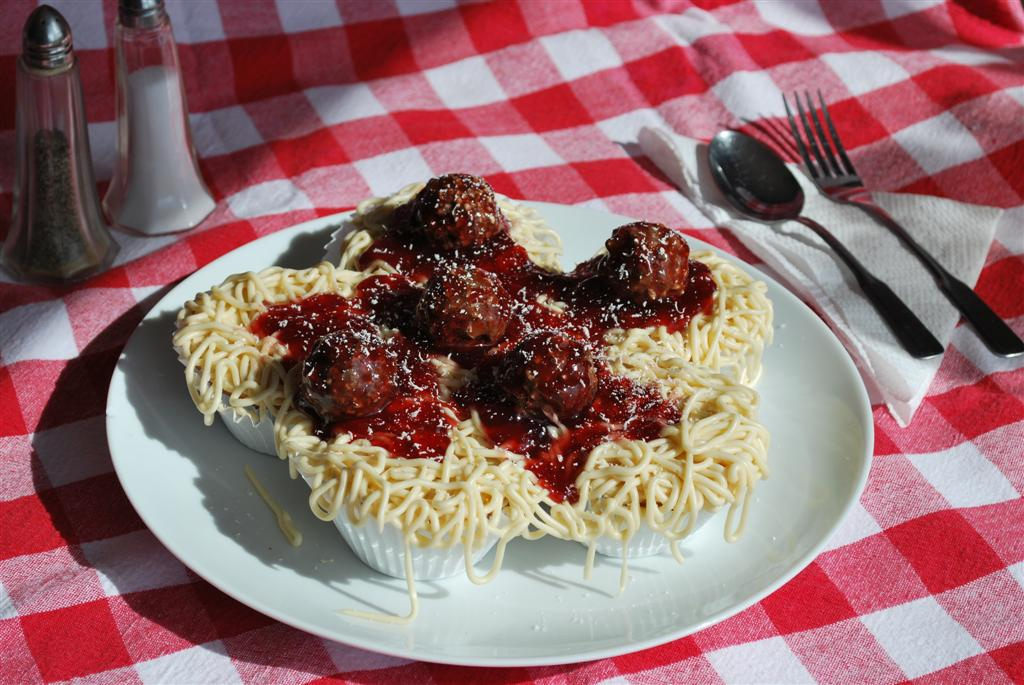plain spaghetti: (194, 212, 790, 564)
